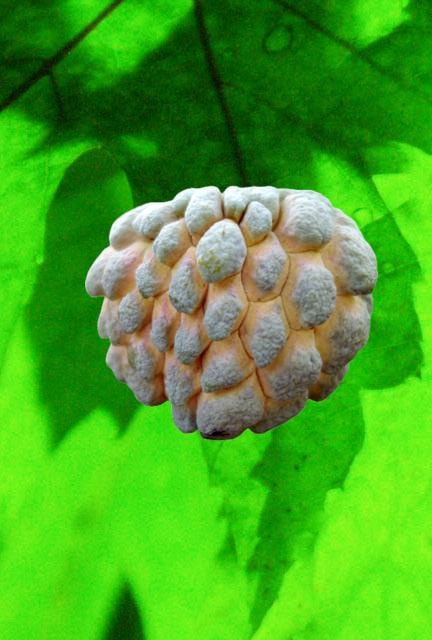atis: (85, 185, 376, 439)
